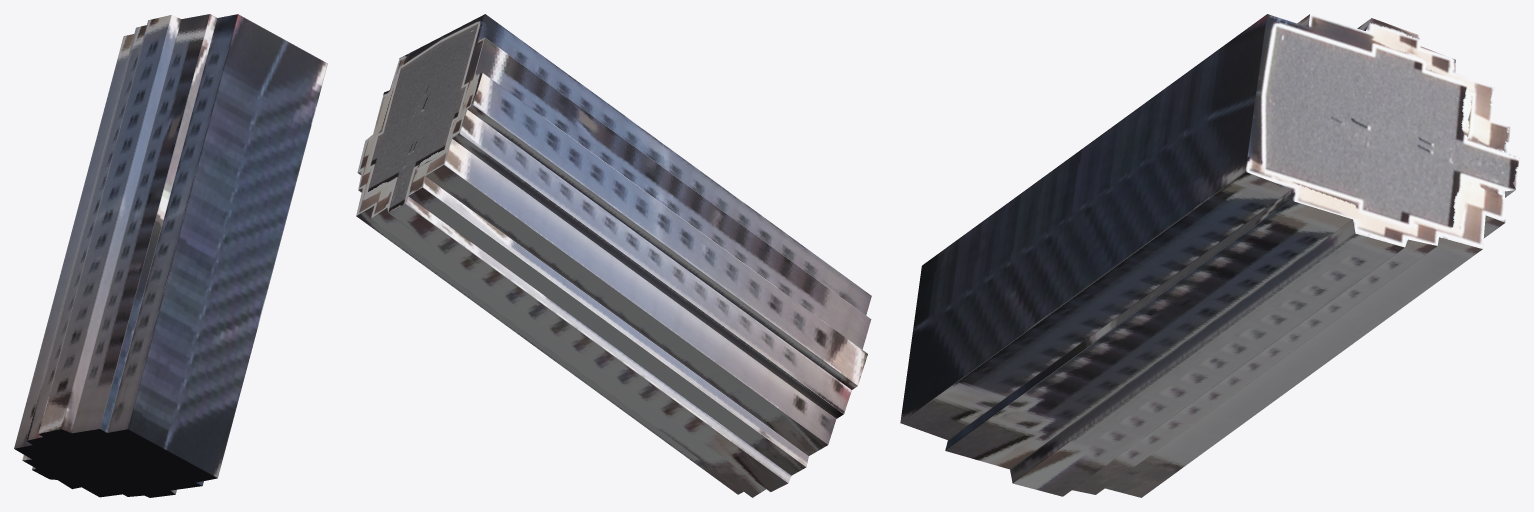
The picture shows the model from 3 angles, left to right: view 1: azimuth 30°, elevation 25°; view 2: azimuth 150°, elevation 25°; view 3: azimuth 270°, elevation 25°; orthographic projection. The views are drawn at different scales.
Size of the model in its own units: 46.55 by 52.55 by 47.83.
1 material, 1 textured.
